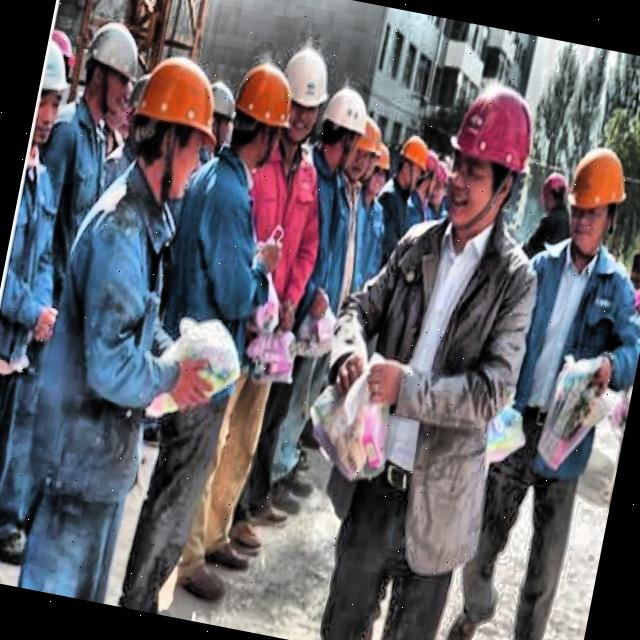helmet: (434, 72, 542, 240), (122, 43, 228, 202), (554, 134, 638, 260), (220, 55, 296, 171), (74, 15, 148, 130), (276, 41, 338, 150), (313, 90, 371, 176), (32, 37, 78, 145), (193, 72, 243, 162), (388, 130, 432, 202), (350, 111, 380, 190), (536, 168, 575, 226), (364, 142, 395, 202)
